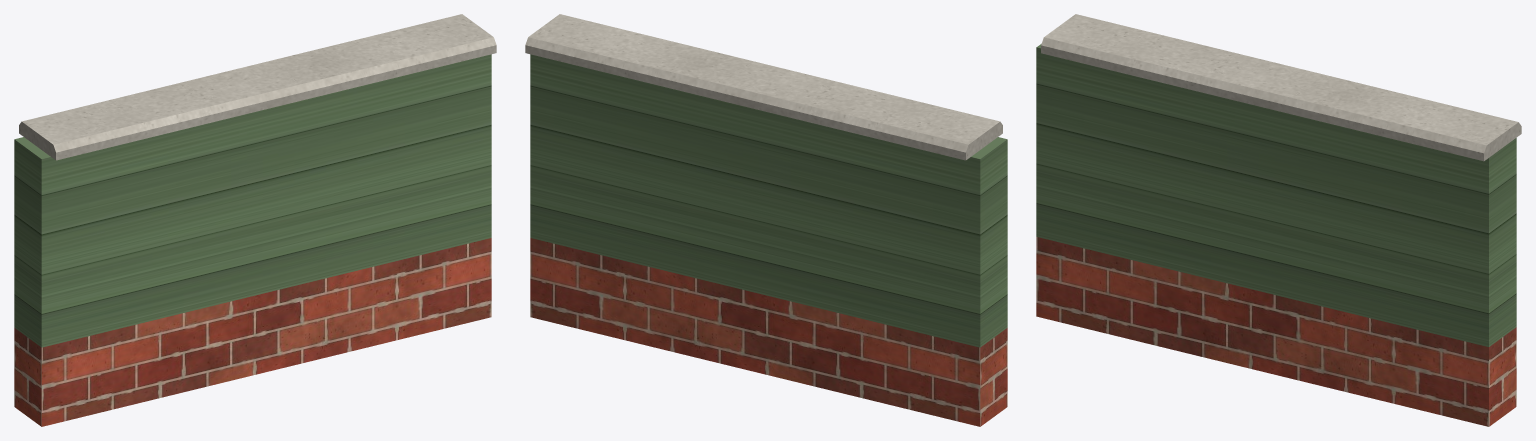
Rendered from porch_side_wall.glb.
The picture shows the model from 3 angles, left to right: view 1: azimuth 30°, elevation 25°; view 2: azimuth 150°, elevation 25°; view 3: azimuth 330°, elevation 25°; orthographic projection.
Visible parts, largest first — view 1: porch_side_wall_siding, porch_side_wall_brick, porch_side_wall_cap; view 2: porch_side_wall_siding, porch_side_wall_brick, porch_side_wall_cap; view 3: porch_side_wall_siding, porch_side_wall_brick, porch_side_wall_cap.
Part boxes in pixels (x1,y1,x2,y2): porch_side_wall_siding: (14,54,491,347); porch_side_wall_brick: (14,238,491,426); porch_side_wall_cap: (19,14,496,160); porch_side_wall_siding: (530,54,1007,347); porch_side_wall_brick: (530,238,1007,426); porch_side_wall_cap: (525,14,1002,160); porch_side_wall_siding: (1036,44,1516,346); porch_side_wall_brick: (1036,237,1516,426); porch_side_wall_cap: (1041,14,1521,161).
Bounding box in the file's own units: 2.38 × 1.42 × 0.34.
3 materials, 3 textured.
